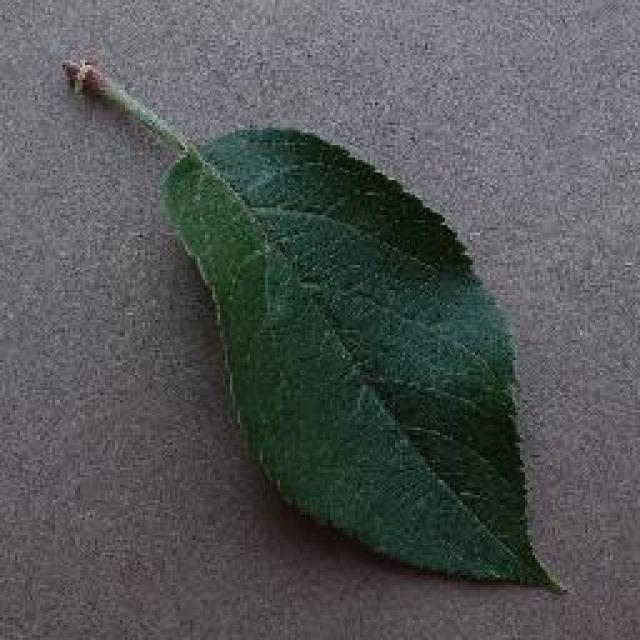apple healthy: (60, 50, 568, 595)
